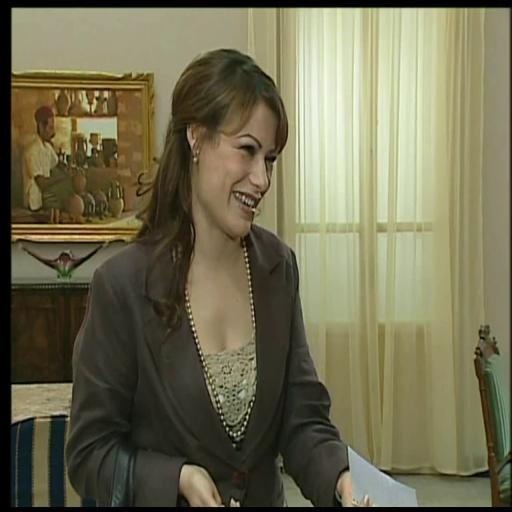zeineb: (186, 102, 278, 241)
